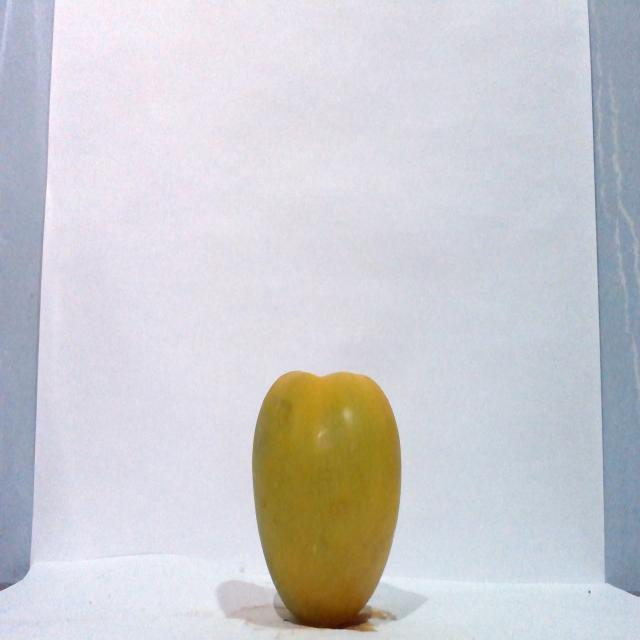Green: (250, 368, 402, 627)
